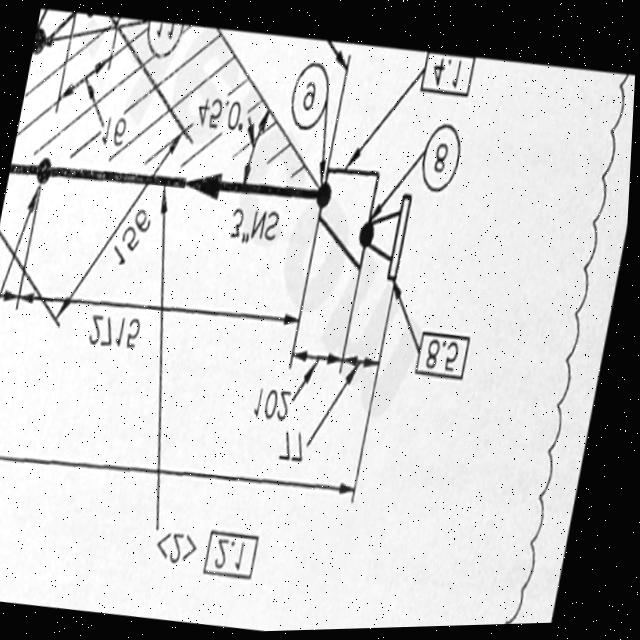Item number: (205, 525, 267, 586), (417, 328, 477, 387), (417, 56, 478, 105)
Measrement: (0, 441, 362, 557), (16, 277, 305, 374), (47, 187, 157, 336), (288, 350, 384, 468), (254, 345, 347, 430), (224, 199, 286, 252), (94, 108, 133, 153), (0, 283, 25, 334)
Pipeline: (19, 154, 334, 231)
Symbol: (350, 184, 420, 288), (183, 157, 228, 212)
Weld number: (413, 119, 469, 201), (285, 57, 335, 137)
